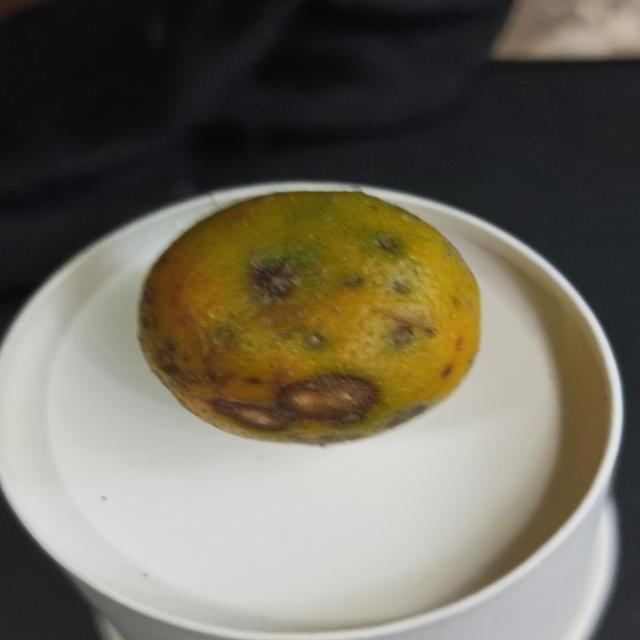black spot: (134, 190, 488, 447)
